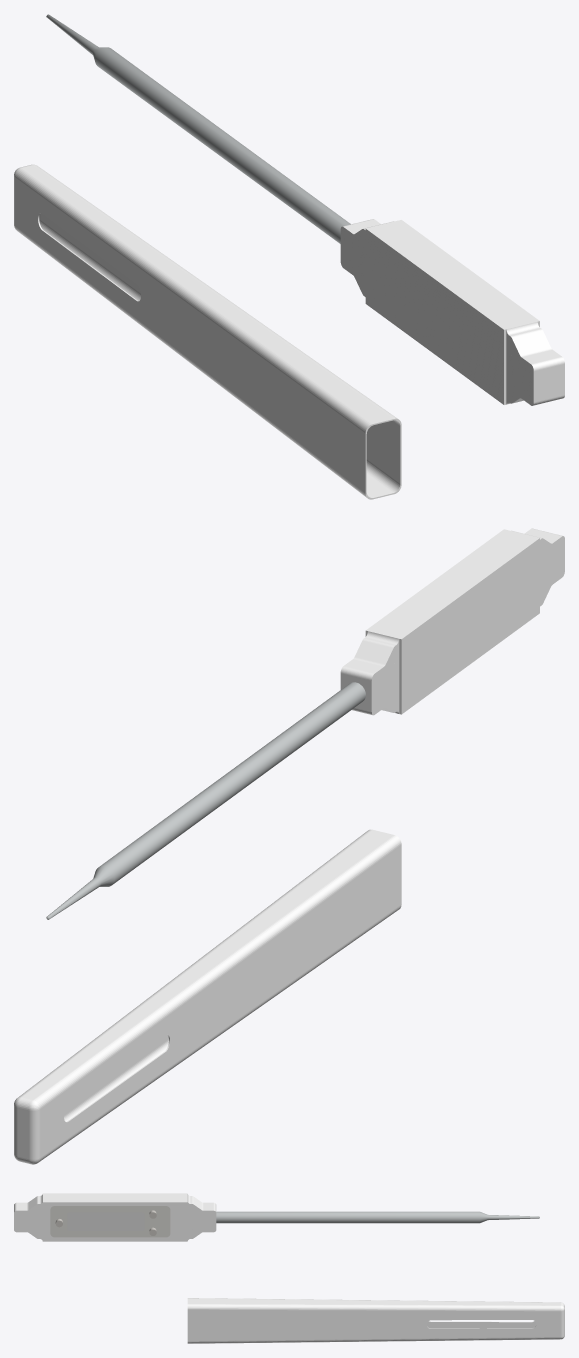
File: 09-Pen Type Thermometer V2.fbx
The picture shows the model from 3 angles, top to bottom: view 1: azimuth 30°, elevation 25°; view 2: azimuth 150°, elevation 25°; view 3: azimuth 270°, elevation 25°; orthographic projection. The views are drawn at different scales.
Visible parts, largest first — view 1: Pen Type Thermometer V2_A, Pen Type Thermometer V2; view 2: Pen Type Thermometer V2_A, Pen Type Thermometer V2; view 3: Pen Type Thermometer V2_A, Pen Type Thermometer V2.
Part boxes in pixels (x1=…): Pen Type Thermometer V2_A: x1=14, y1=164, x2=401, y2=499; Pen Type Thermometer V2: x1=46, y1=14, x2=564, y2=405; Pen Type Thermometer V2_A: x1=14, y1=829, x2=401, y2=1164; Pen Type Thermometer V2: x1=46, y1=528, x2=564, y2=919; Pen Type Thermometer V2_A: x1=187, y1=1298, x2=564, y2=1343; Pen Type Thermometer V2: x1=14, y1=1193, x2=539, y2=1241.
Size of the model in its own units: 1.41 by 8.5 by 29.71.
Materials: 1 (1 with a texture image).
